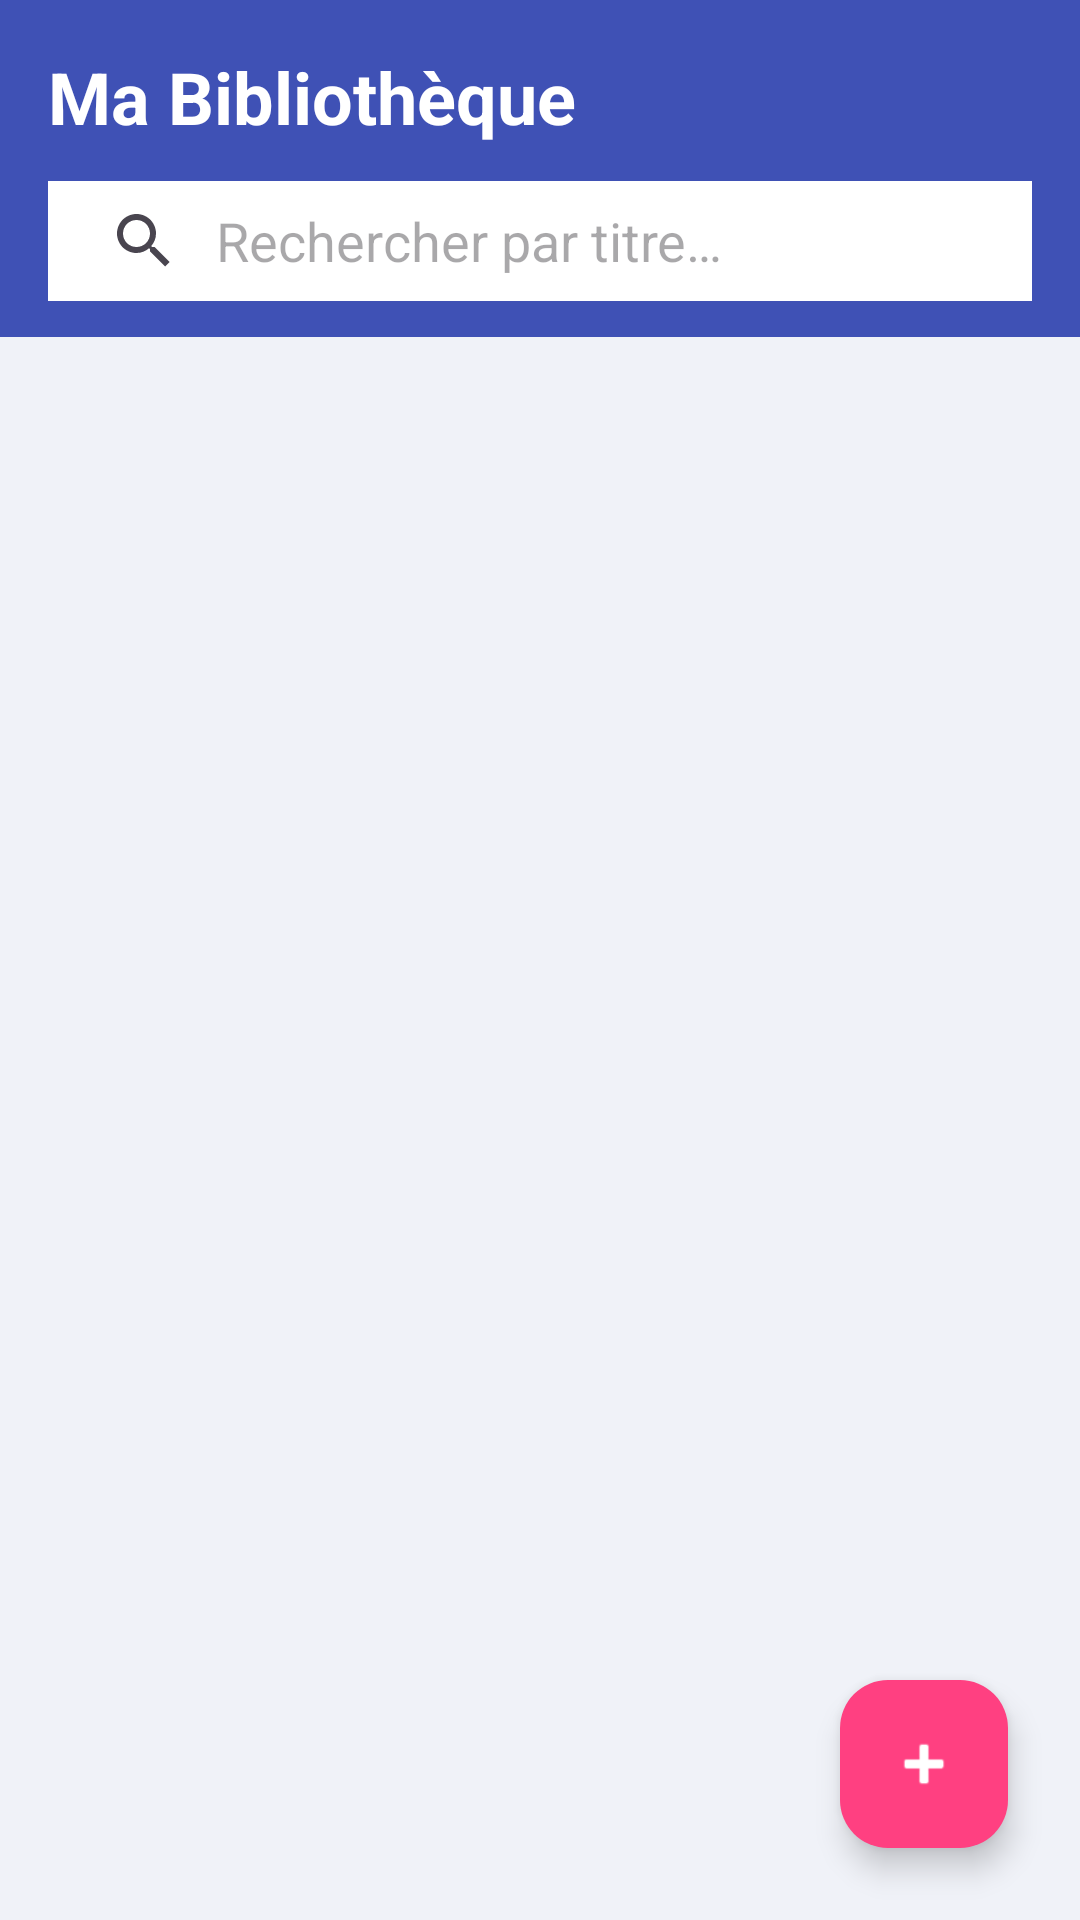

Icon bounding boxes for this 1080x1920 phone screenshot, format (x1, y1, x2, y2):
Ajouter un livre: (840, 1680, 1008, 1848)
